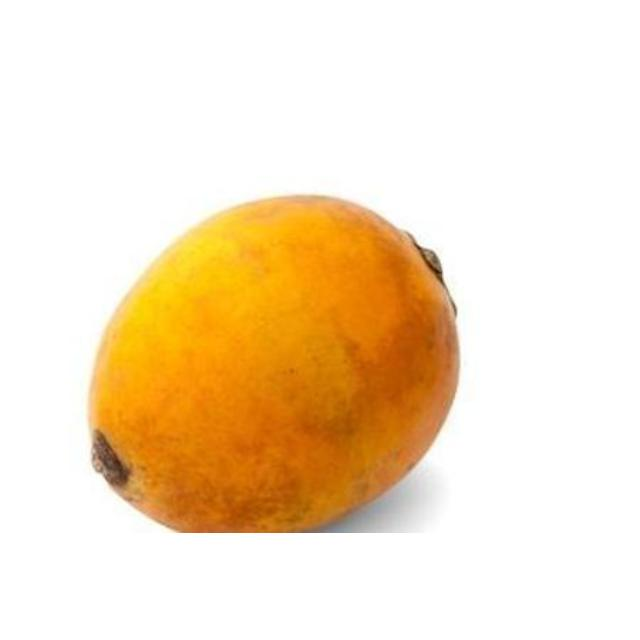good: (87, 197, 461, 532)
